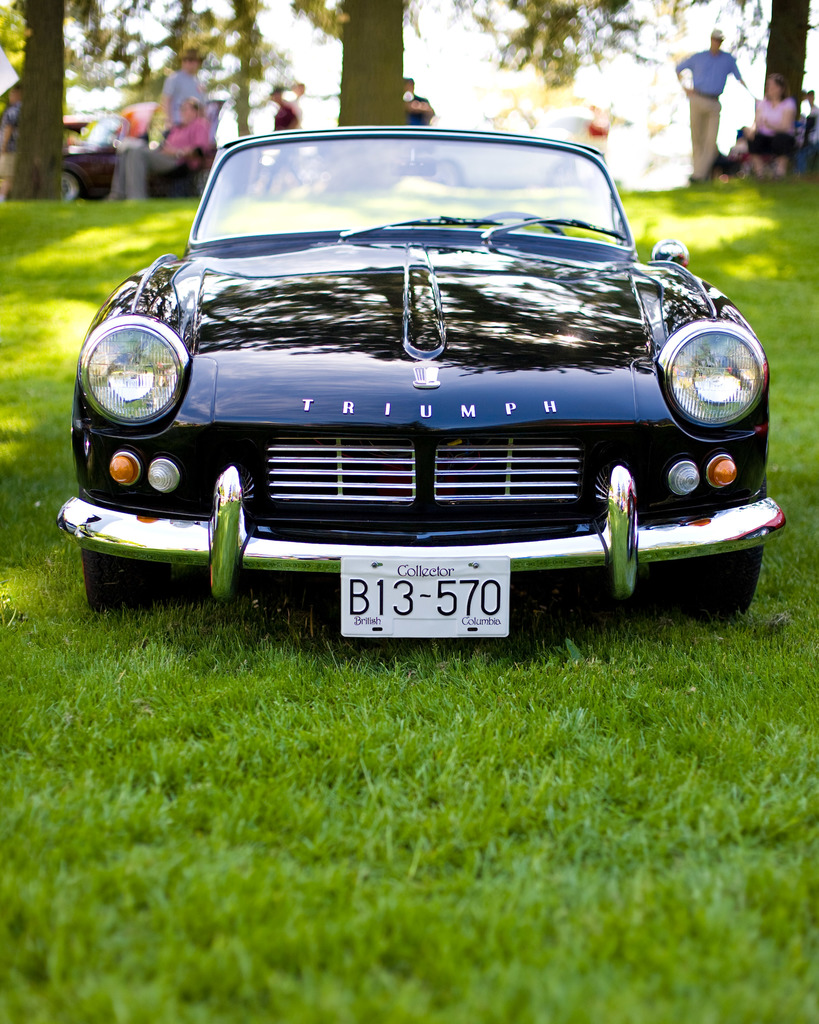Car: (62, 115, 783, 642)
